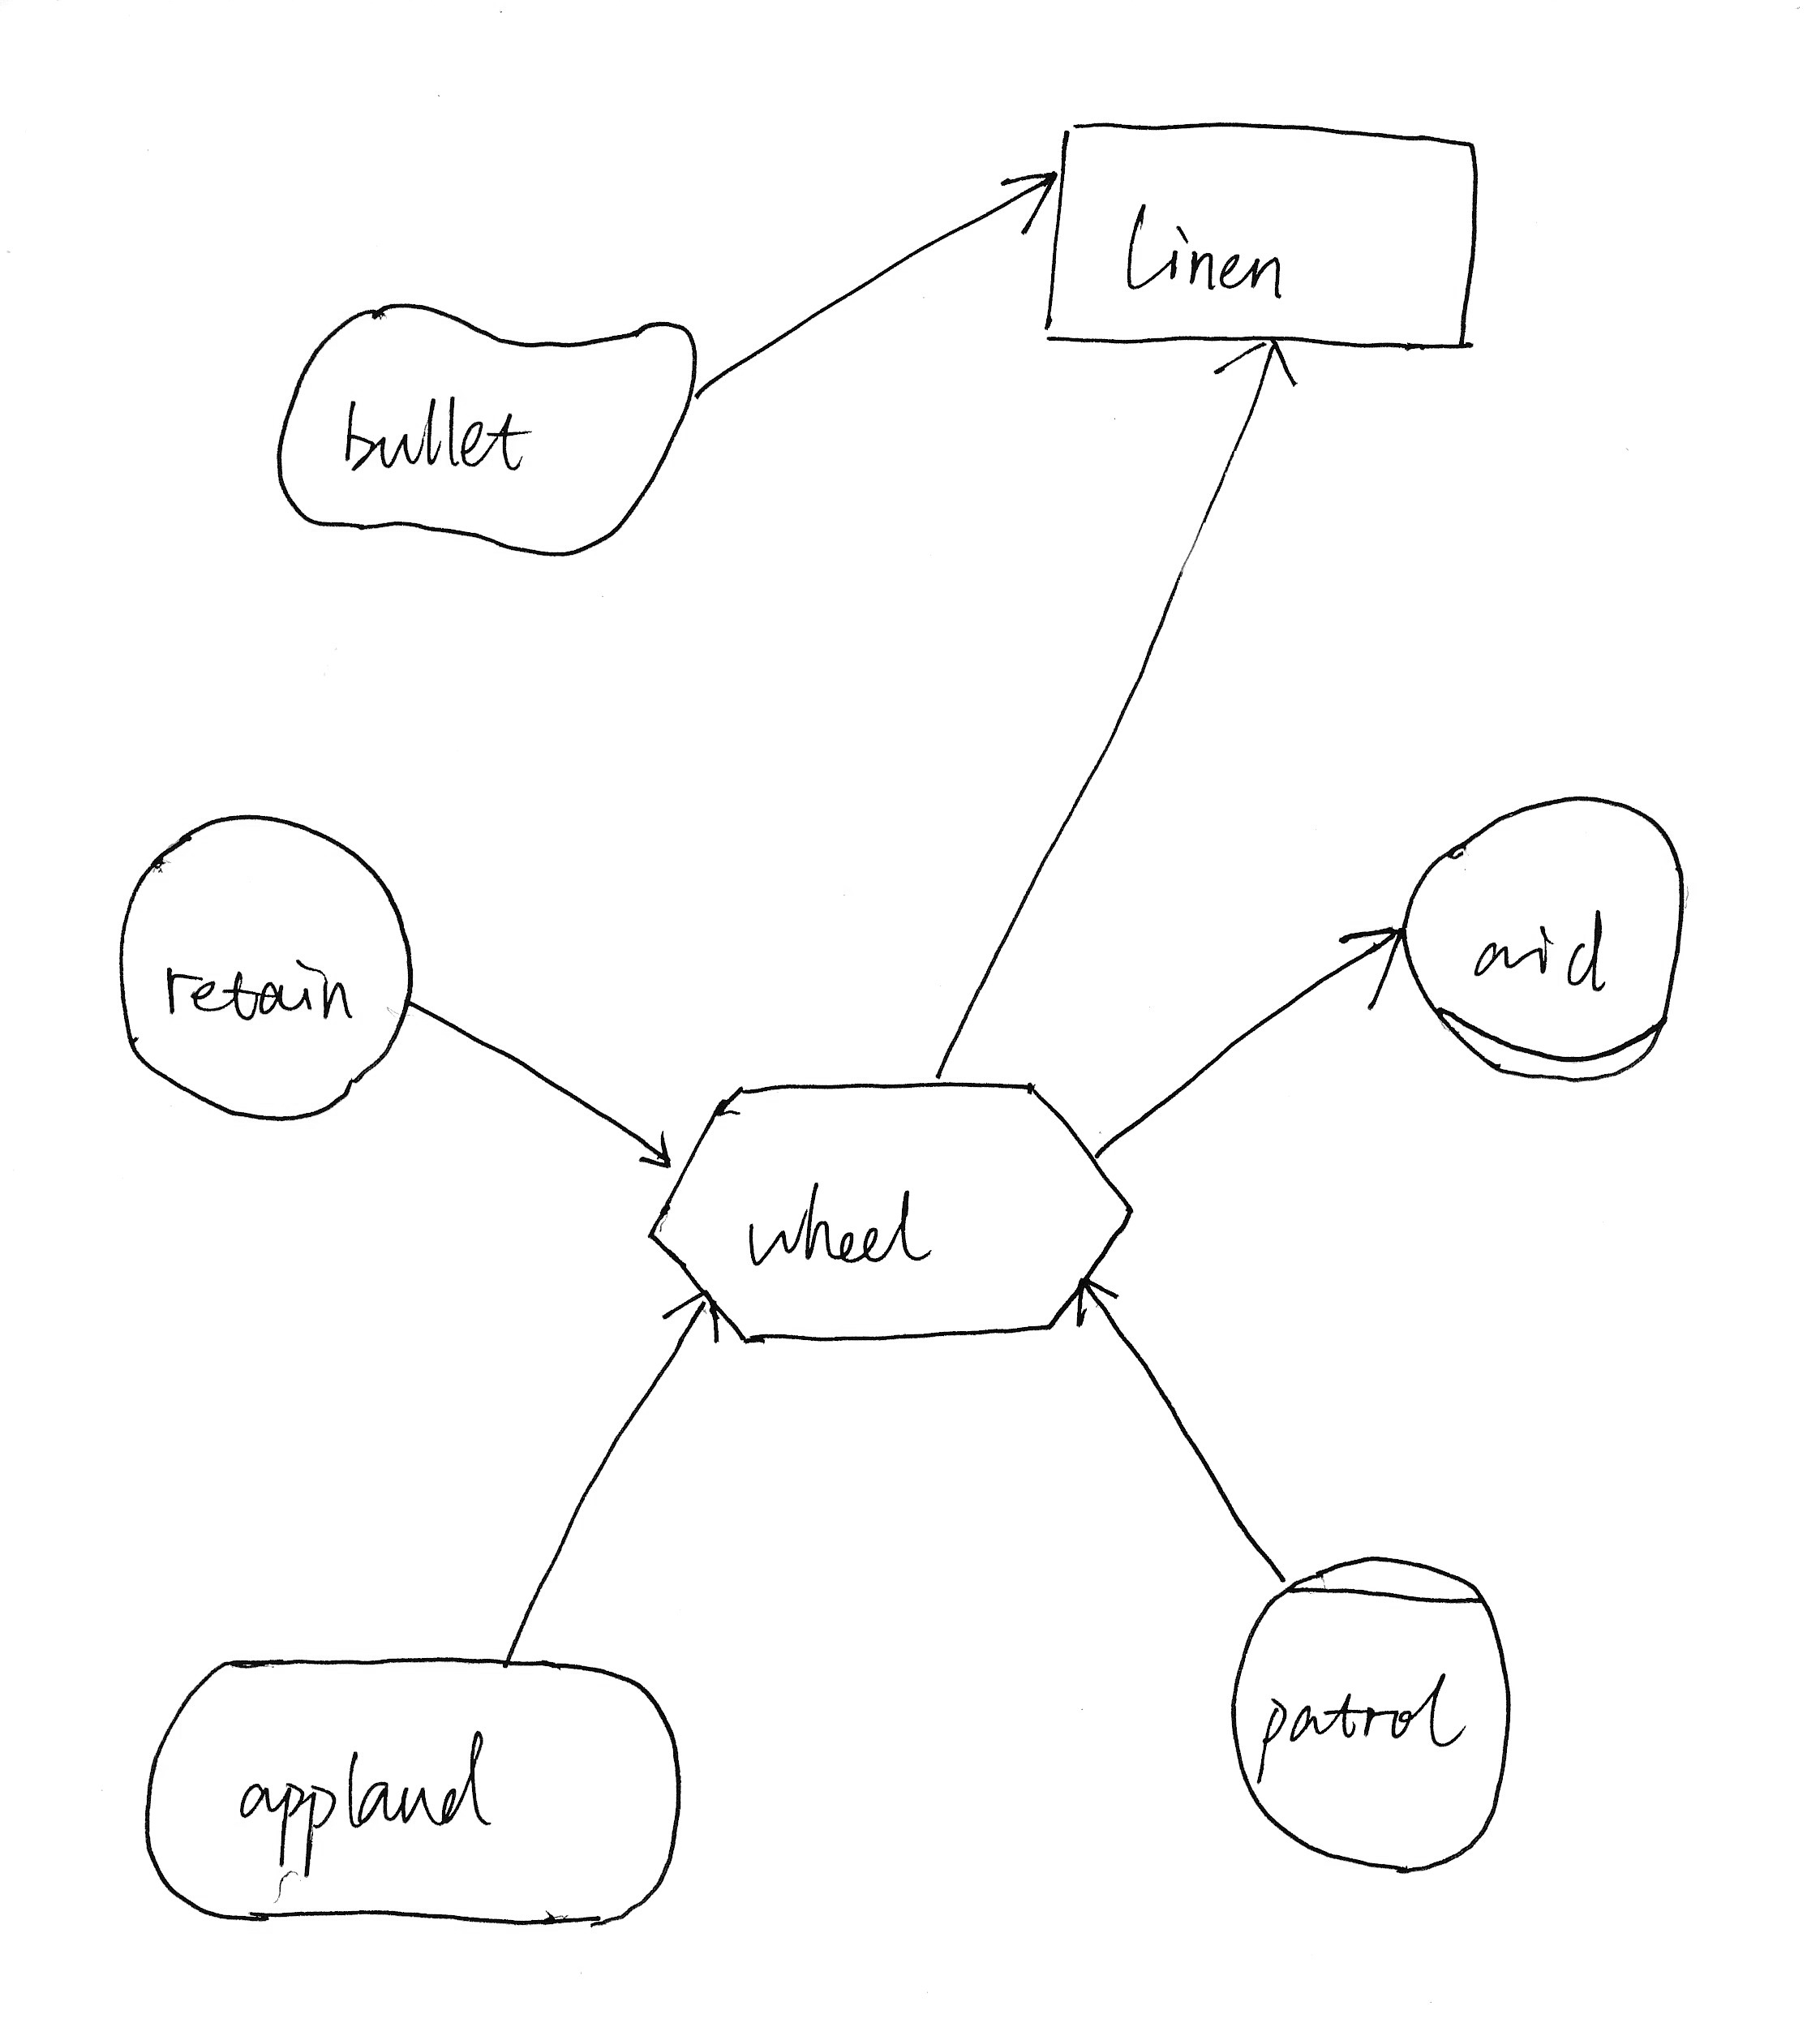actor: (102, 794, 427, 1137)
agent: (1210, 1525, 1527, 1887)
arrow: (1326, 900, 1412, 1028), (1203, 332, 1316, 399), (987, 153, 1063, 244), (654, 1283, 727, 1365), (1063, 1274, 1128, 1342), (627, 1111, 680, 1183)
goal: (123, 1634, 697, 1942)
quality: (262, 281, 727, 578)
resource: (1028, 100, 1511, 373)
role: (1386, 775, 1699, 1100)
task: (634, 1065, 1145, 1355)
